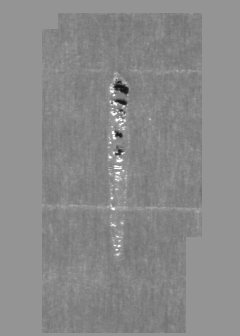oxl: (35, 10, 205, 326)
